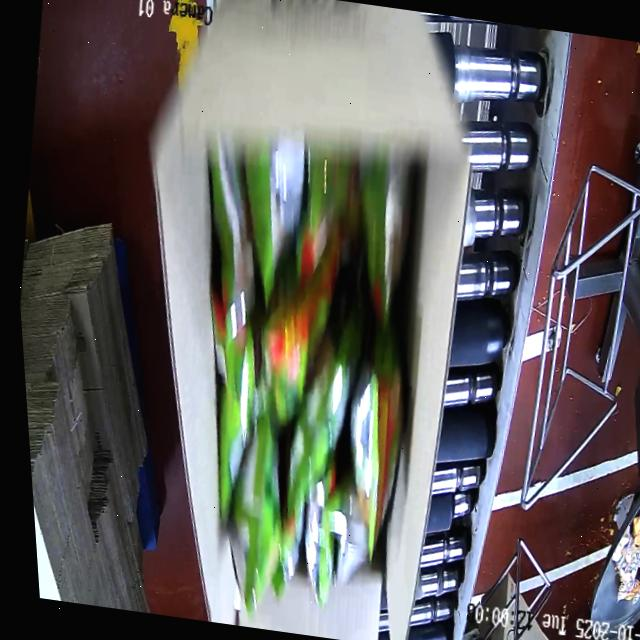YOGURT_HERB: (168, 123, 457, 612)
